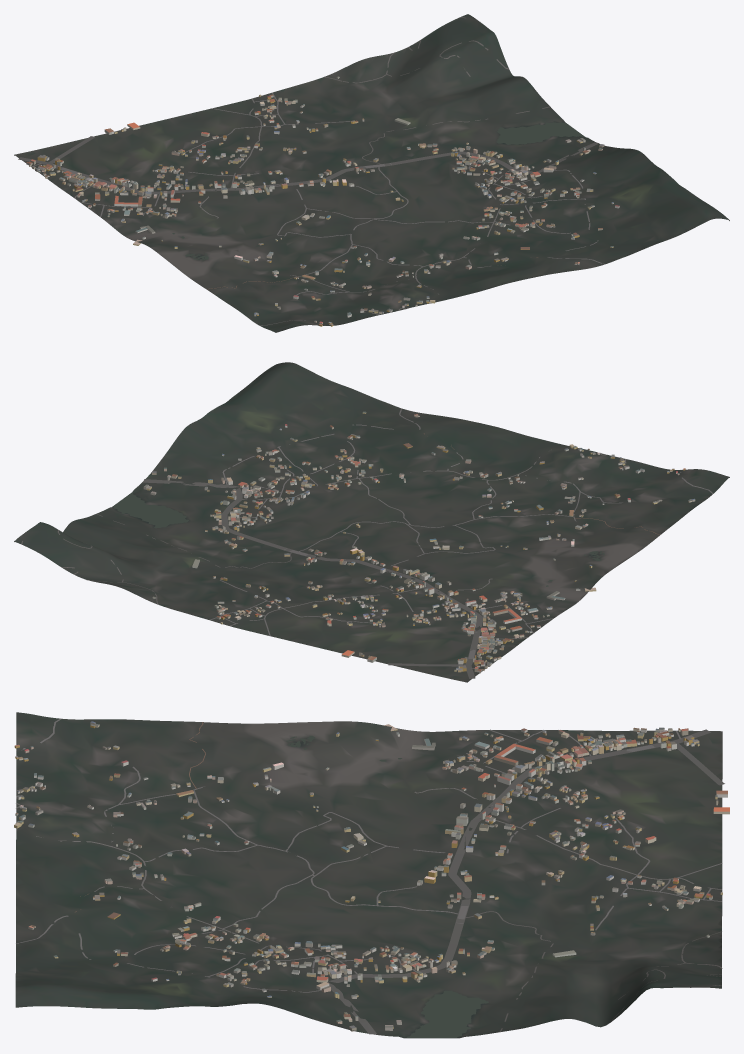
3 renders of one model, top to bottom at view 1: azimuth 30°, elevation 25°; view 2: azimuth 150°, elevation 25°; view 3: azimuth 270°, elevation 25°, orthographic. The views are drawn at different scales.
Visible parts, largest first — view 1: ground, buildings, roads, water; view 2: ground, buildings, roads, water; view 3: ground, buildings, roads, water.
Boxes of the visible parts, x1,y1,x2,y2 form: ground: [14, 14, 729, 332]; buildings: [26, 76, 619, 326]; roads: [18, 17, 604, 325]; water: [172, 122, 584, 260]; ground: [14, 362, 729, 682]; buildings: [143, 411, 695, 673]; roads: [21, 408, 713, 678]; water: [113, 493, 604, 586]; ground: [15, 712, 722, 1038]; buildings: [14, 721, 729, 1031]; roads: [16, 718, 724, 1034]; water: [286, 735, 488, 1037].
Bounding box in the file's own units: 1418 × 114 × 1421.
